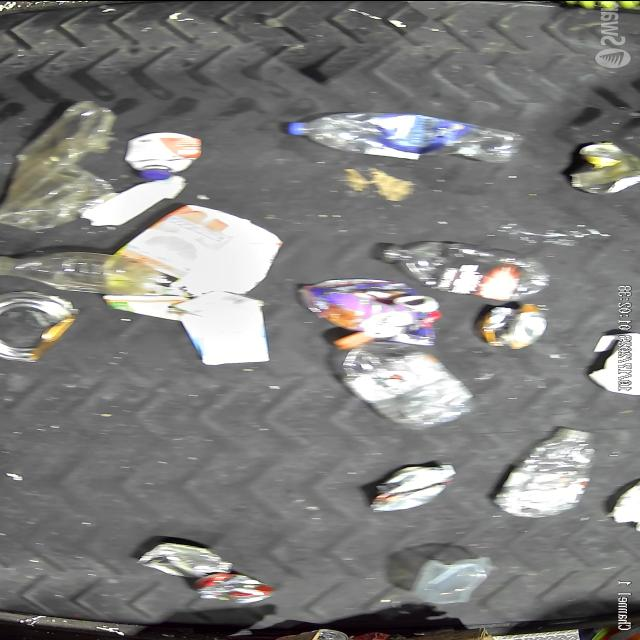can: (0, 291, 81, 361), (368, 462, 456, 510), (568, 140, 640, 195), (137, 539, 230, 578), (476, 304, 548, 348), (193, 571, 275, 605)
non_white_jug: (102, 203, 284, 320)
plastic_bottle: (336, 337, 471, 428), (285, 110, 521, 162), (378, 240, 554, 300), (496, 428, 596, 518), (0, 250, 156, 294)
